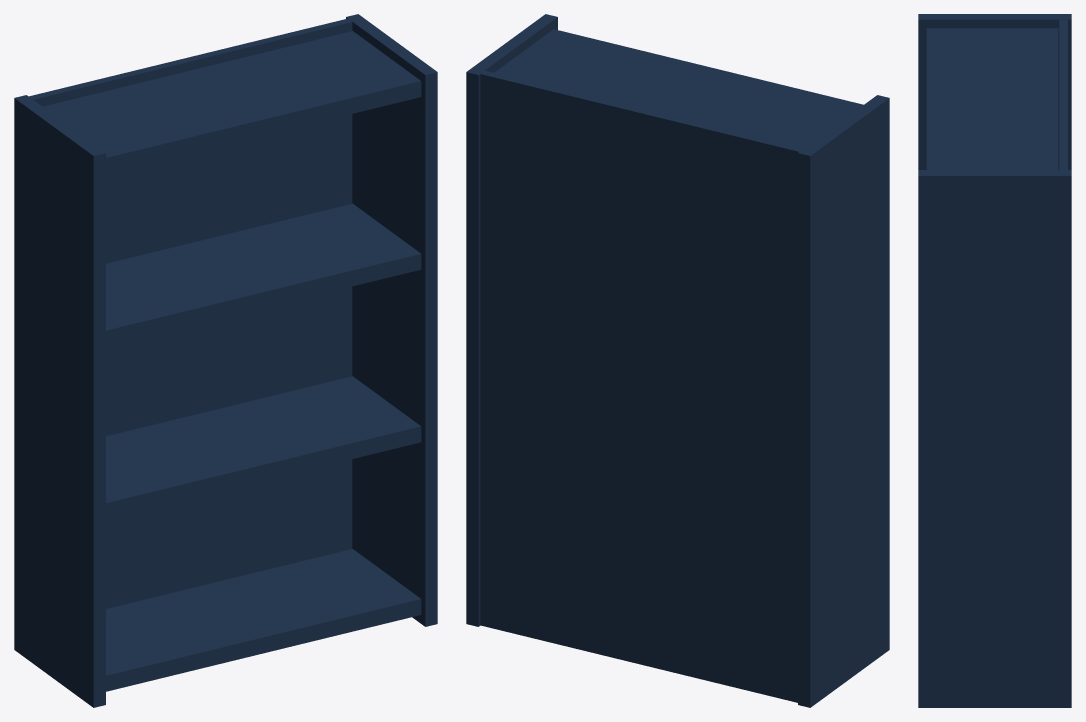
The model's file is bookshelf.fbx.
3 views of the same model, side by side, from view 1: azimuth 30°, elevation 25°; view 2: azimuth 150°, elevation 25°; view 3: azimuth 270°, elevation 25° (orthographic). The views are drawn at different scales.
Parts seen in each view (by area): view 1: pCube8; view 2: pCube8; view 3: pCube8.
Part boxes in pixels (box(x1,y1,x2,y2)): pCube8: box(14, 14, 437, 707); pCube8: box(466, 14, 889, 707); pCube8: box(918, 14, 1071, 707).
Size of the model in its own units: 7.15 by 10.95 by 2.86.
